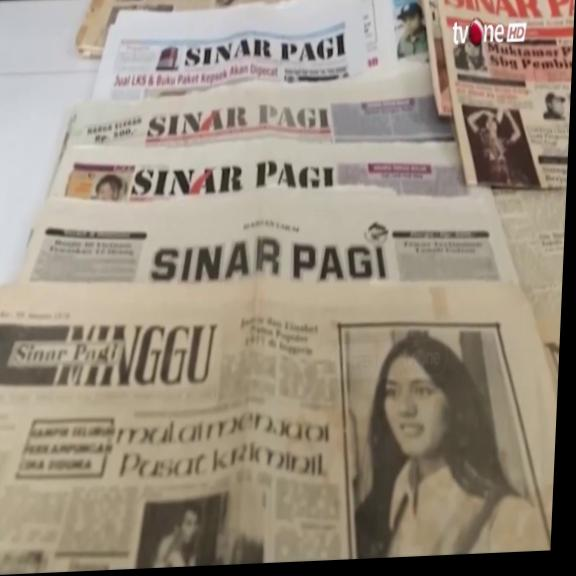Kertas: (0, 260, 376, 574), (94, 0, 418, 103)
